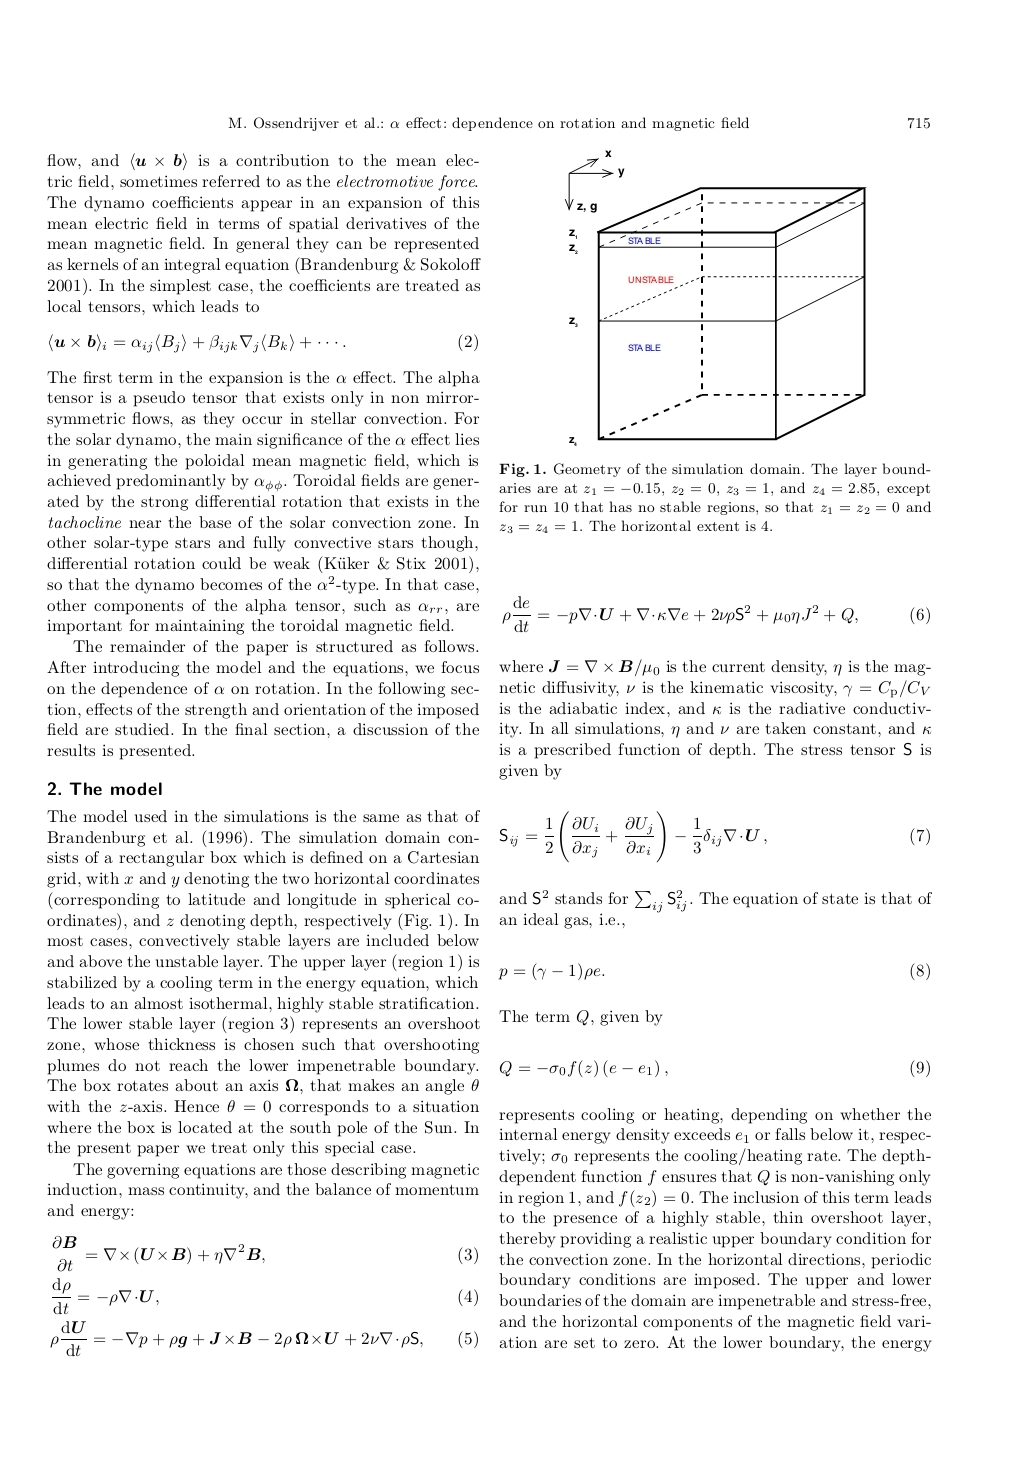figure: (563, 149, 866, 446)
formula: (499, 810, 929, 863), (499, 888, 931, 929), (502, 595, 929, 632), (50, 1320, 476, 1357), (52, 1234, 476, 1272), (52, 1277, 476, 1315), (498, 962, 929, 980), (499, 1059, 929, 1078), (49, 334, 476, 352)
